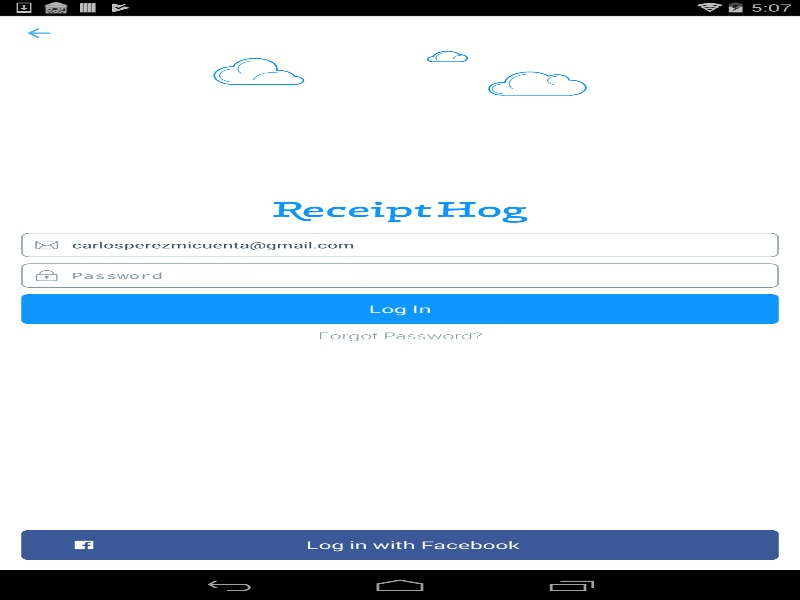Button: (21, 294, 778, 324), (21, 530, 778, 560), (0, 15, 77, 50)
Input: (21, 232, 778, 257), (21, 263, 778, 287)
